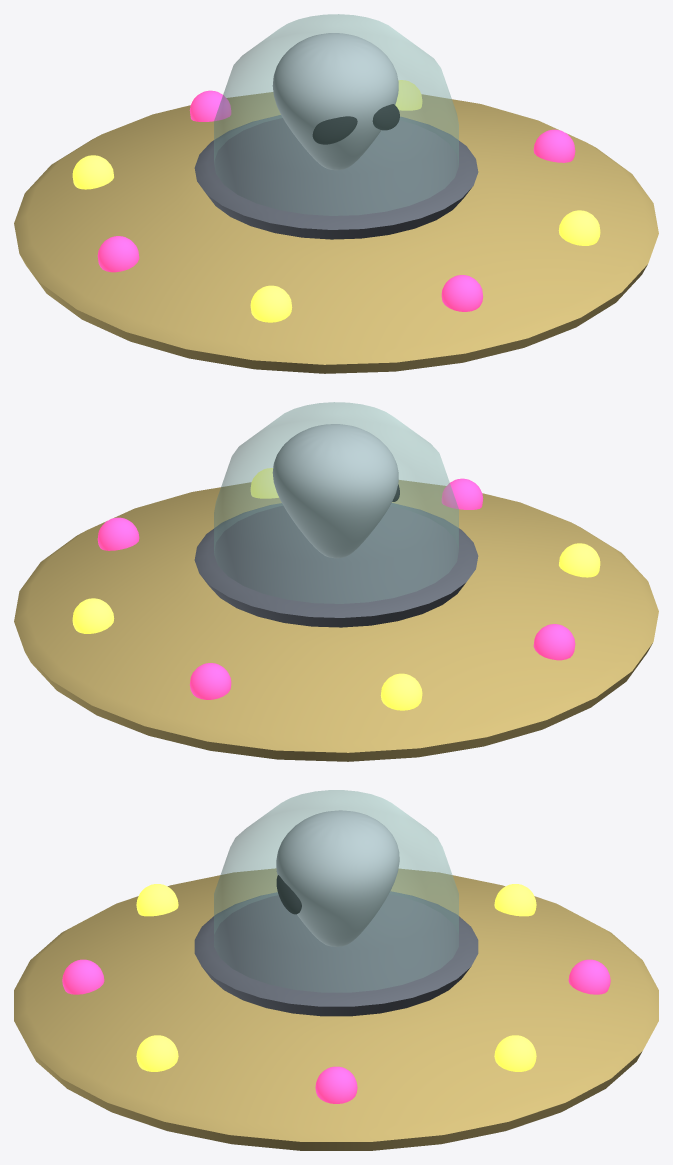
File: alien_saucer.glb
3 views of the same model, one above another, from view 1: azimuth 30°, elevation 25°; view 2: azimuth 150°, elevation 25°; view 3: azimuth 270°, elevation 25° (orthographic).
Parts seen in each view (by area): view 1: hull, dome, deck, skull, bulb.005, bulb.004, bulb.006, bulb.003, bulb.007, bulb.002, bulb, eye (+2 smaller); view 2: hull, dome, deck, skull, bulb.007, bulb, bulb.006, bulb.001, bulb.005, bulb.002, bulb.004, bulb.003; view 3: hull, dome, deck, skull, bulb.002, bulb.001, bulb.003, bulb, bulb.004, bulb.005, bulb.007, eye.001.
Part boxes in pixels (x1,y1,x2,y2): hull: (14,92,658,373); dome: (214,14,458,215); deck: (194,115,478,239); skull: (272,33,398,170); bulb.005: (250,285,292,322); bulb.004: (441,275,483,311); bulb.006: (97,236,139,272); bulb.003: (558,210,600,245); bulb.007: (72,155,113,189); bulb.002: (533,129,575,162); bulb: (189,90,231,121); eye: (312,116,357,144); hull: (14,480,658,761); dome: (214,402,458,603); deck: (194,503,478,627); skull: (272,424,398,558); bulb.007: (380,673,422,710); bulb: (189,663,231,699); bulb.006: (533,624,575,660); bulb.001: (72,598,114,633); bulb.005: (559,543,600,577); bulb.002: (97,517,139,550); bulb.004: (441,478,483,509); bulb.003: (250,468,278,498); hull: (14,868,658,1150); dome: (214,790,458,992); deck: (194,891,478,1016); skull: (276,810,399,946); bulb.002: (315,1066,357,1103); bulb.001: (494,1035,536,1071); bulb.003: (136,1035,178,1071); bulb: (568,959,610,994); bulb.004: (62,959,104,994); bulb.005: (136,884,178,916); bulb.007: (494,884,536,916); eye.001: (276,875,301,914).
Bounding box in the file's own units: 2.09 × 1.05 × 2.09.
